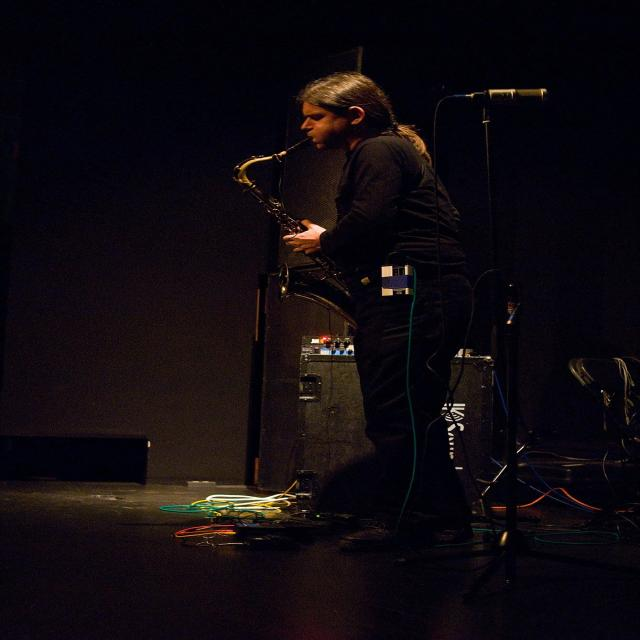drums: (227, 130, 390, 328)
